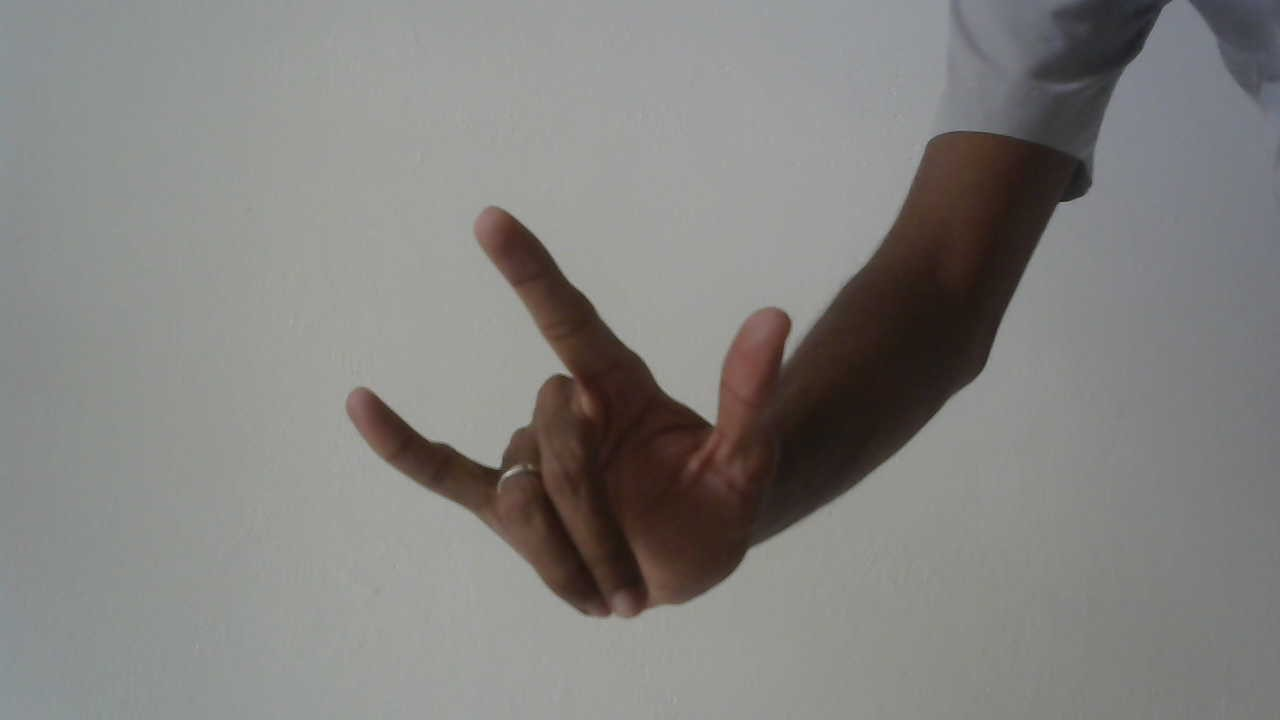iloveyou: (335, 191, 816, 634)
